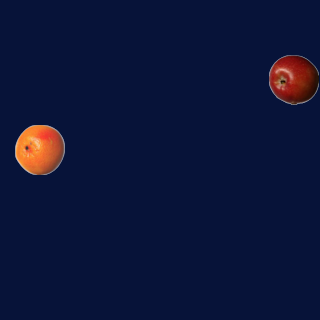Apple Braeburn: (268, 54, 318, 104)
Grapefruit Pink: (14, 124, 64, 174)
